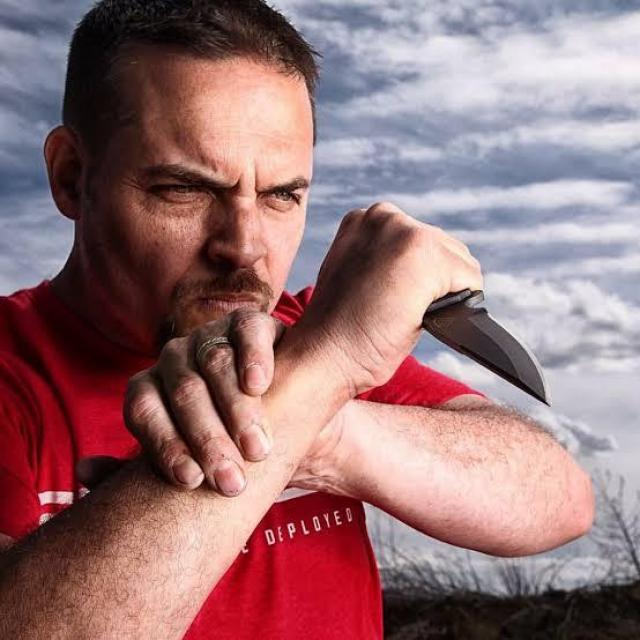knife: (420, 288, 548, 403)
